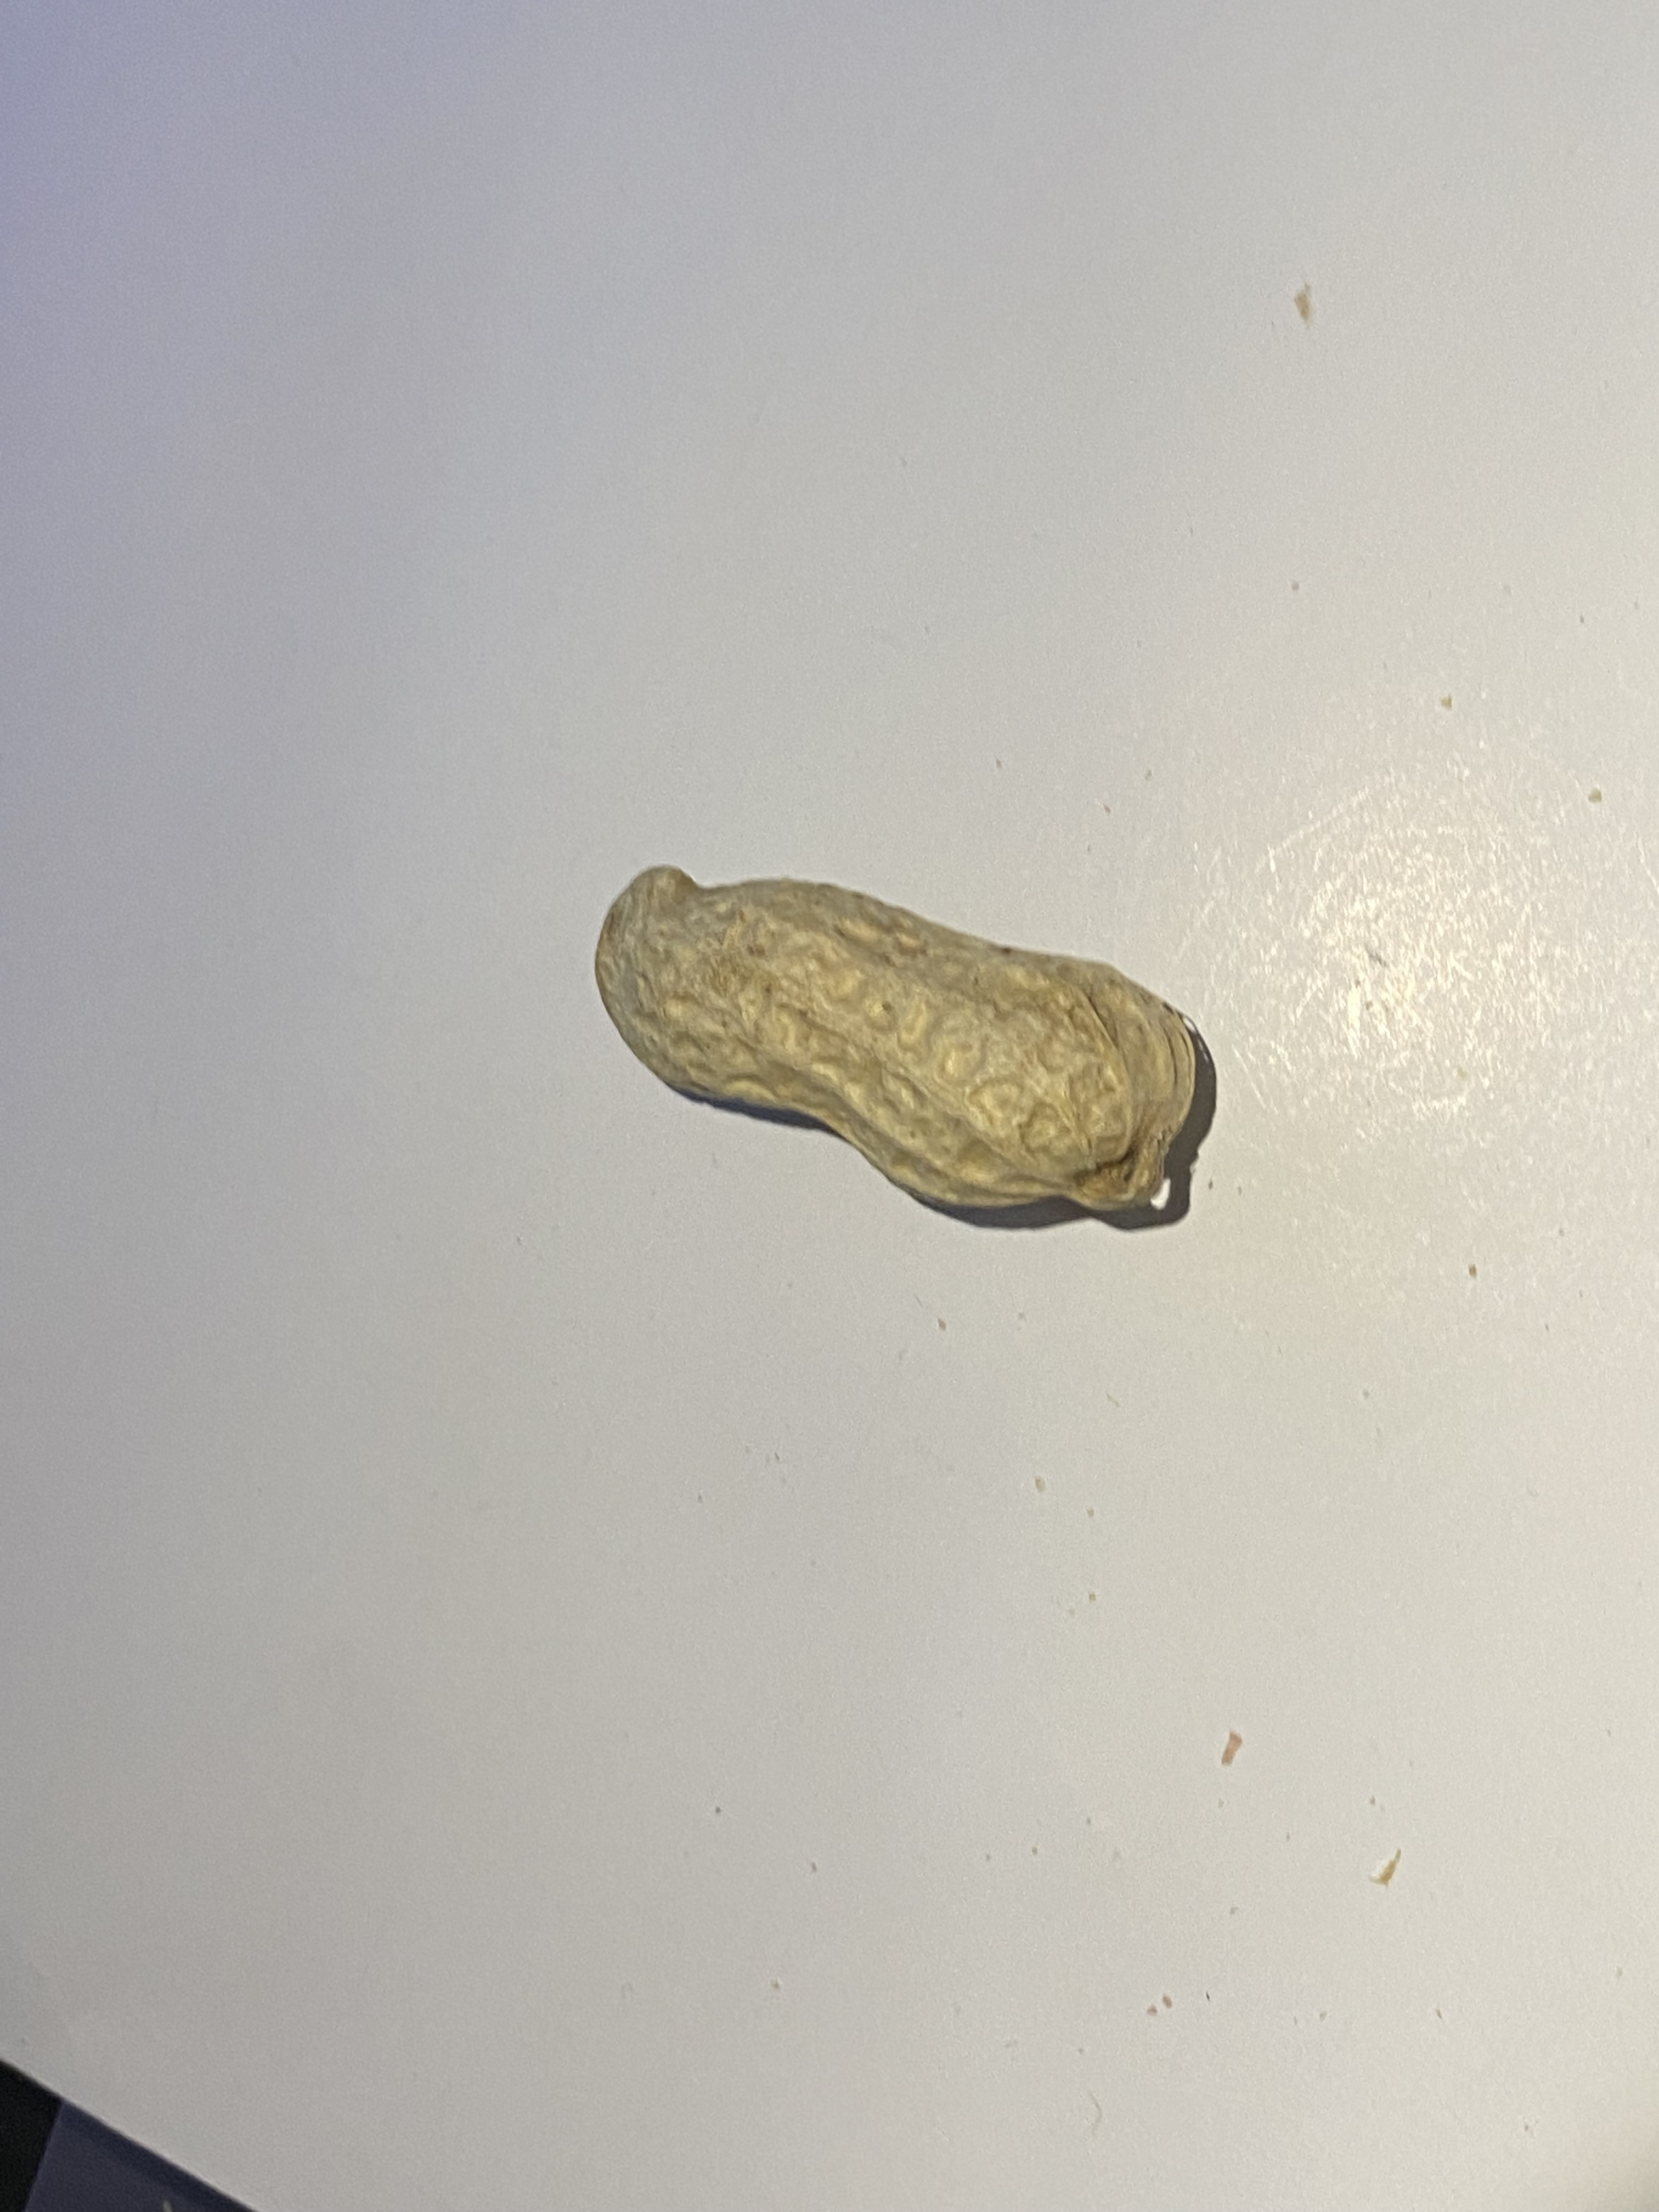kacang2: (538, 819, 1239, 1251)
